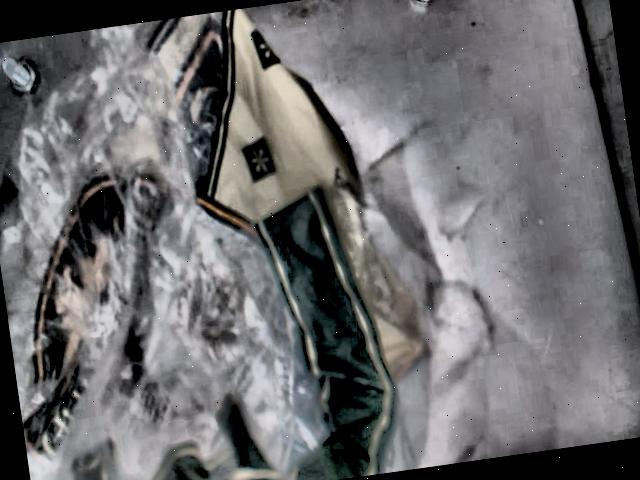Plastic: (0, 9, 486, 480)
